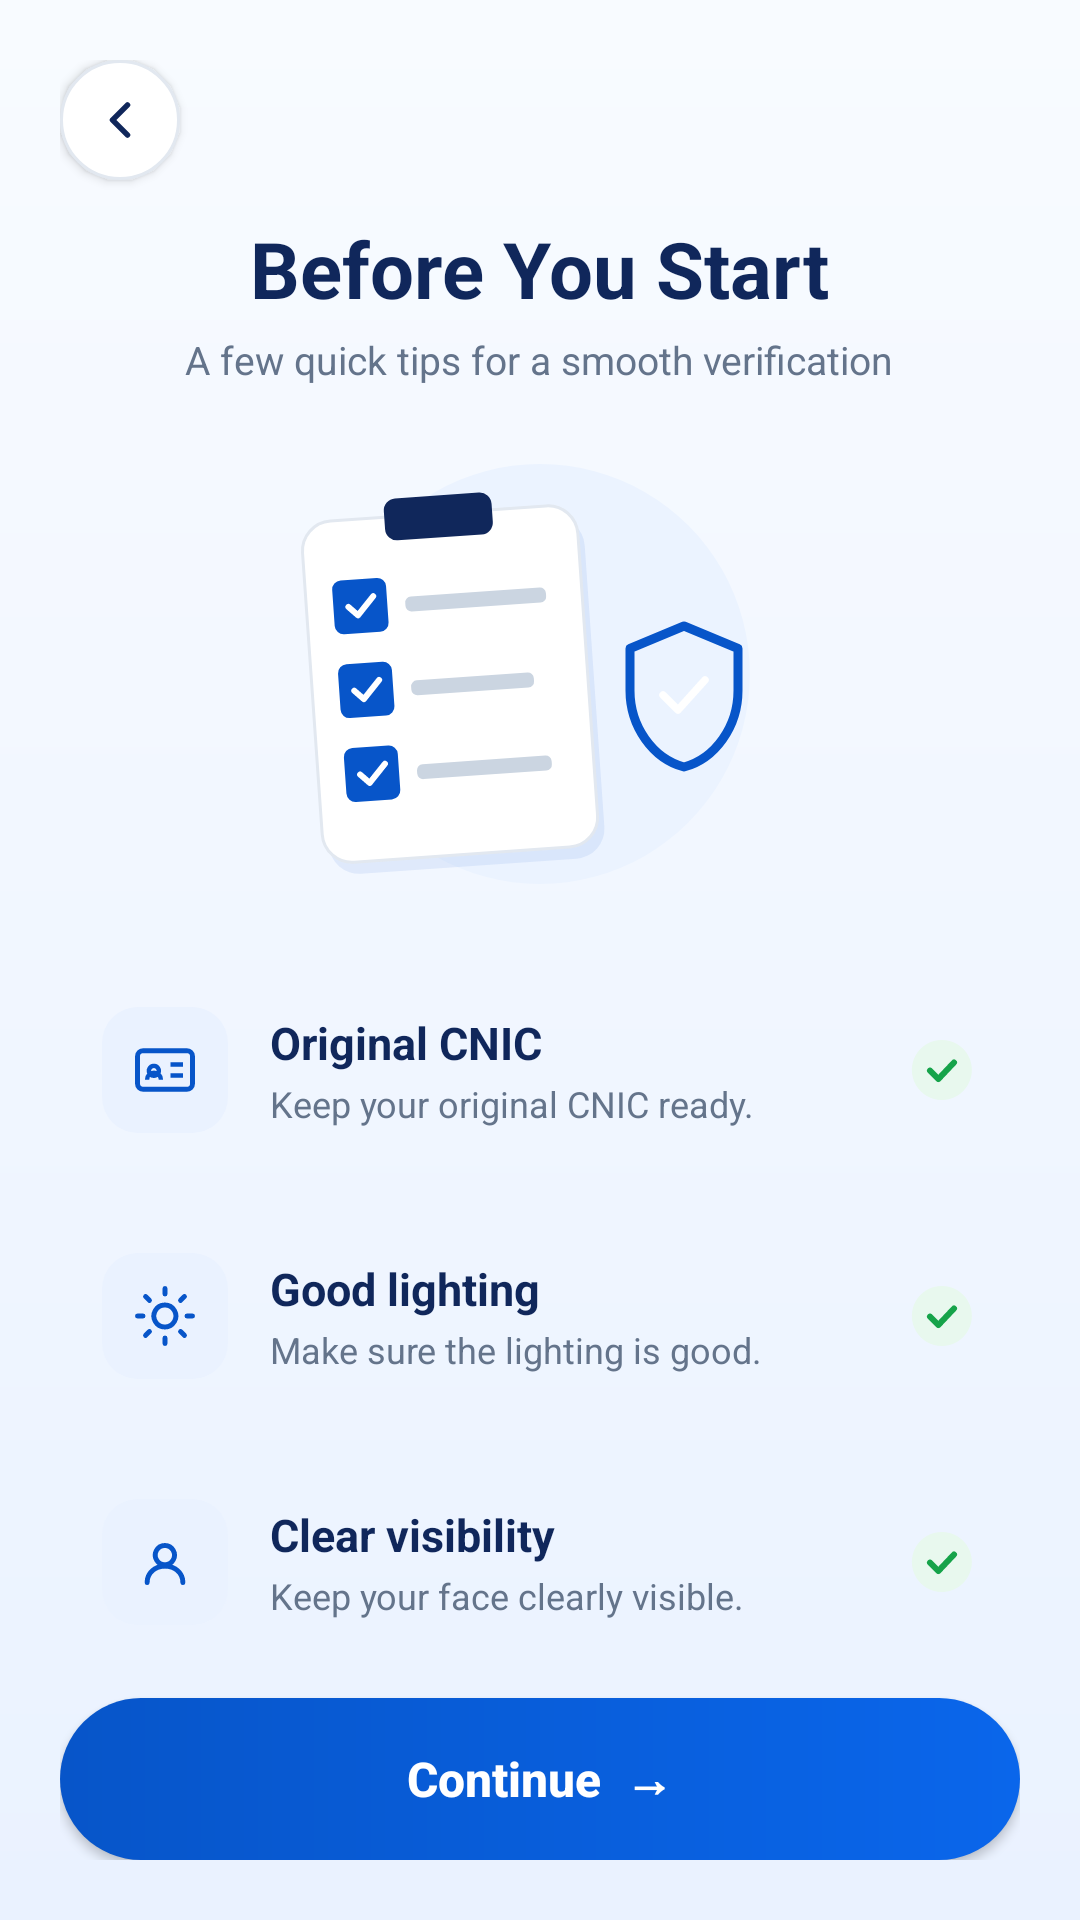

Screen size 1080*1920. Icon name, then its center in pixels as (x=x, y=y):
Back: (x=120, y=120)
Checked: (x=942, y=1070), (x=942, y=1316), (x=942, y=1562)
